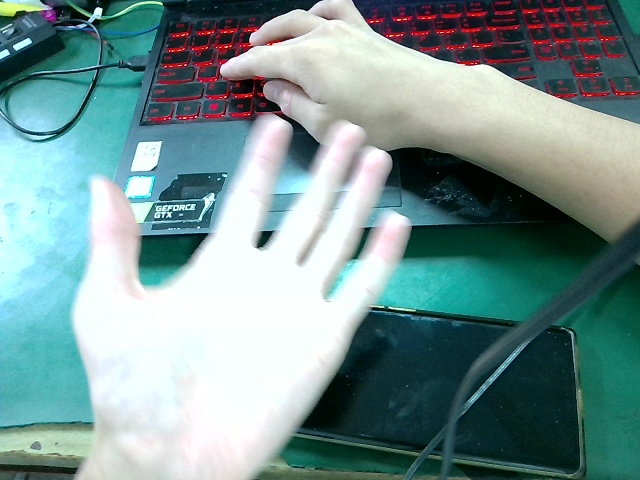paper: (26, 103, 419, 474)
